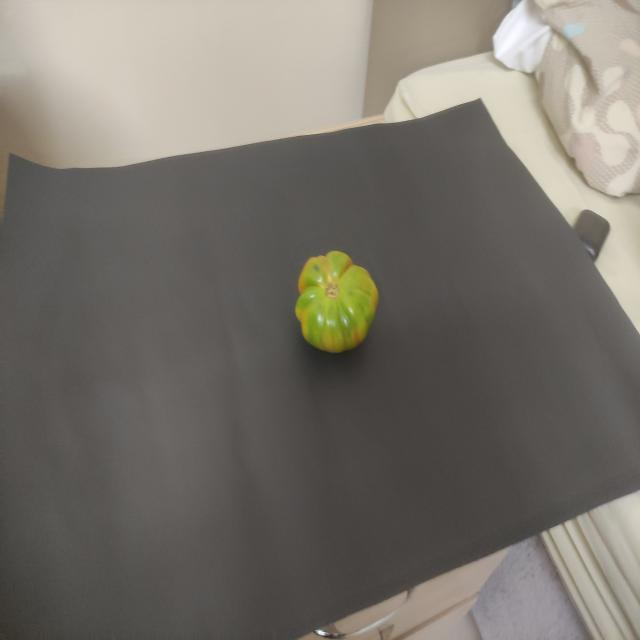yesil: (288, 236, 386, 369)
